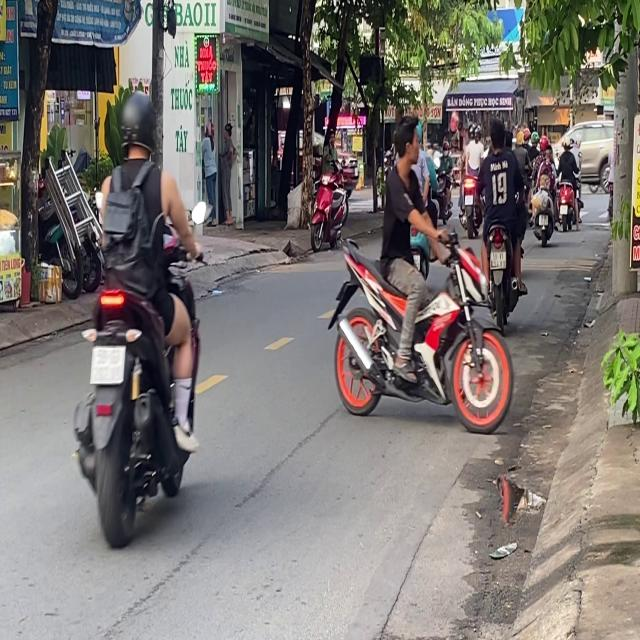helmet: (118, 89, 158, 160)
licenseplate: (325, 104, 517, 428), (74, 87, 205, 542), (475, 113, 529, 328)
motorcyclist: (394, 114, 421, 164), (488, 116, 506, 150)
nohelmet: (90, 345, 124, 383), (490, 252, 506, 268)
